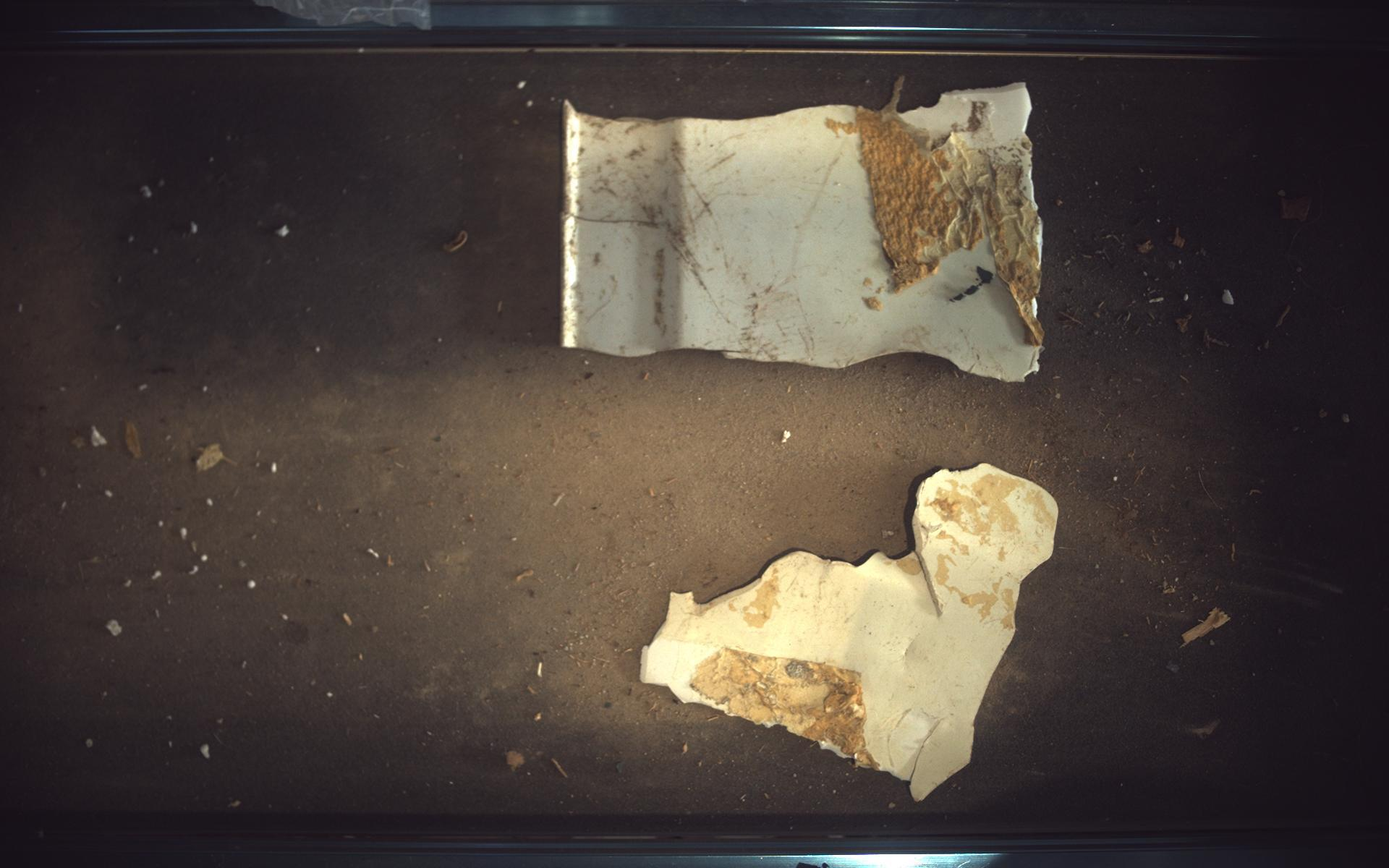plastic: (562, 82, 1046, 381), (641, 464, 1060, 802)
